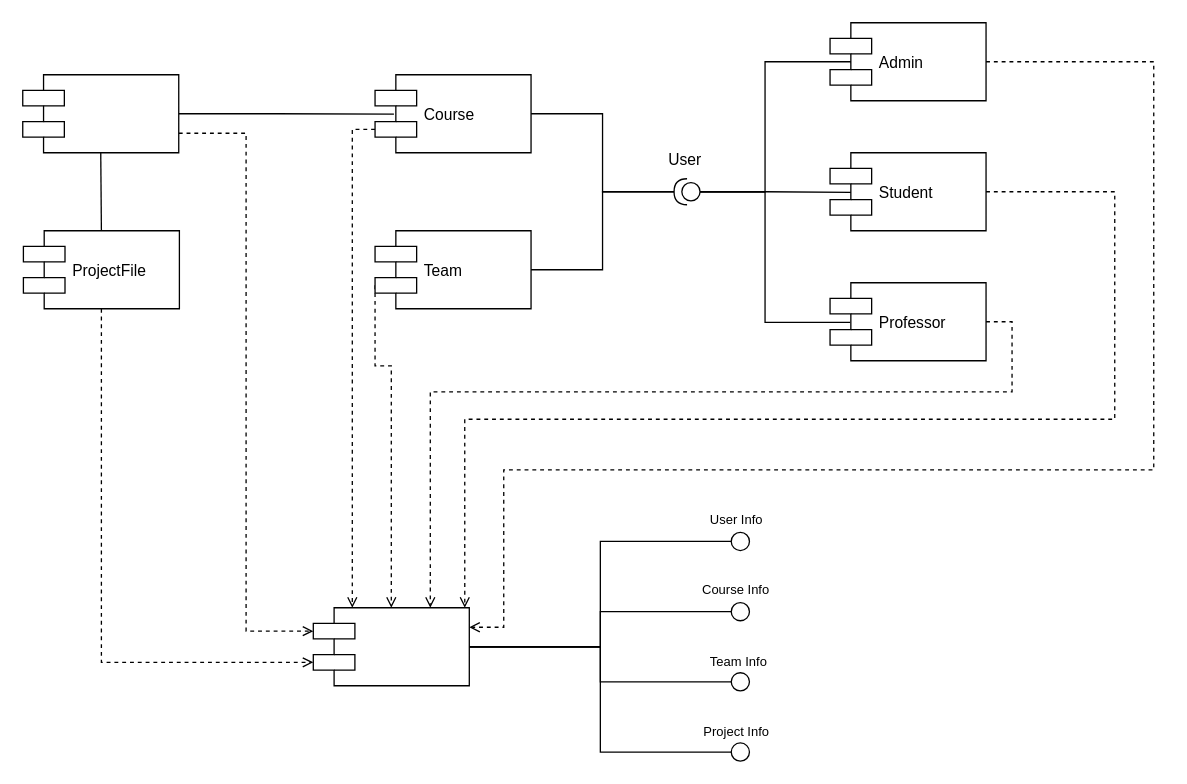
The diagram is 1187 pixels wide and 784 high, and some of its shapes have lost their labels. Each missing label, with the centre of its shape:
Database: [390,646]
Project: [100,113]
